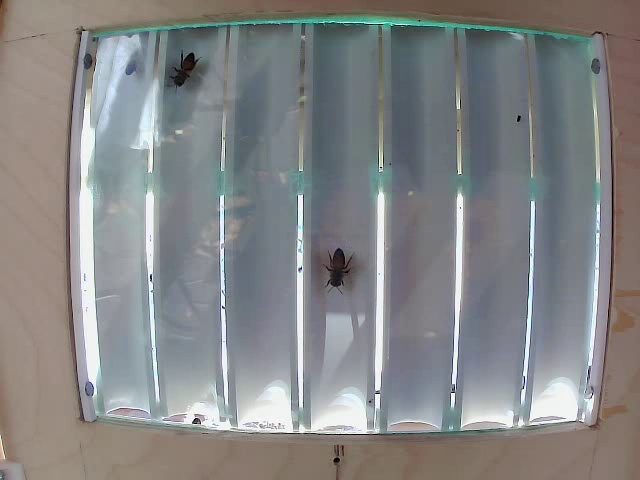bee: (324, 242, 373, 304), (174, 50, 218, 109)
